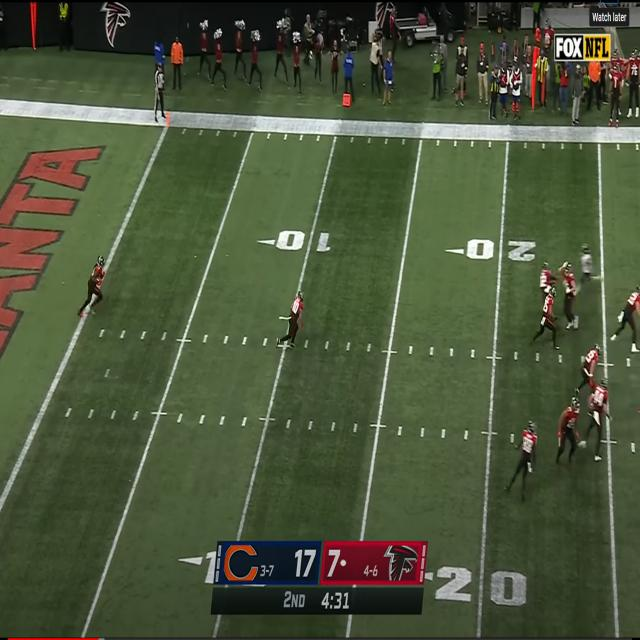football: (95, 273, 102, 285)
players: (585, 385, 618, 467), (78, 242, 110, 324), (508, 416, 538, 495), (270, 290, 308, 352), (612, 275, 640, 357), (555, 386, 578, 475), (577, 334, 607, 401), (576, 241, 606, 306), (534, 279, 556, 350), (536, 255, 558, 321), (562, 260, 578, 336)
